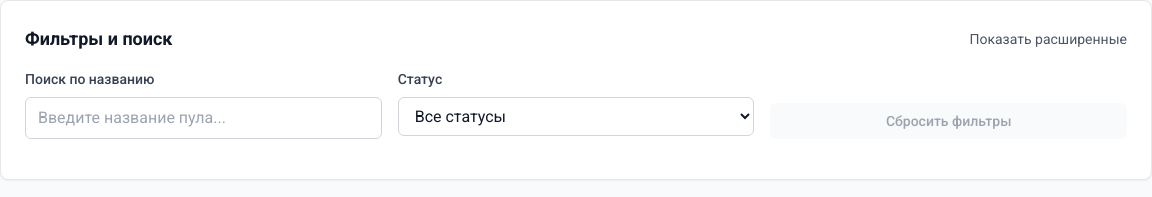
Test: MiningPoolsFilter › показывает индикатор применения фильтров
// Применяем фильтр
Step 1. Type "test" into the field with placeholder "Введите название пула..." → {"x": 203, "y": 118}, box top-left (25, 97), bottom-right (382, 139)
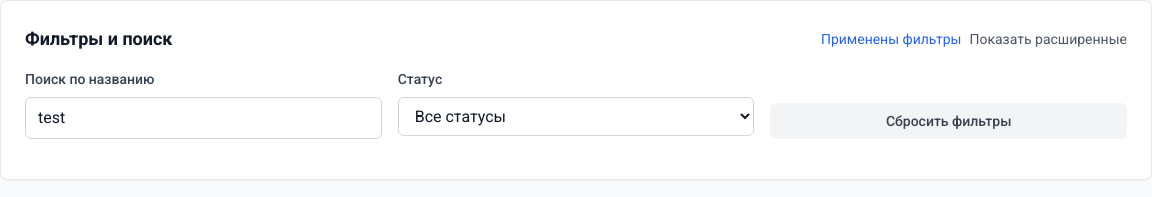
Expected: the text "Применены фильтры" is shown, top-left (821, 29), bottom-right (962, 49)
